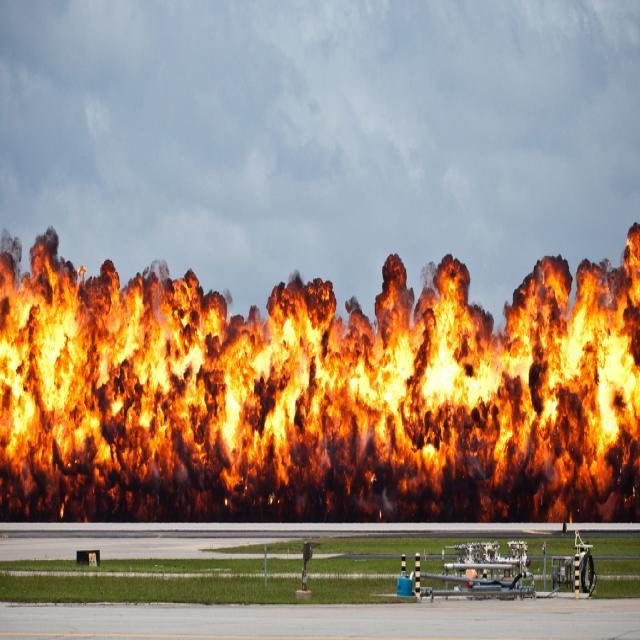Fire: (10, 306, 631, 480)
